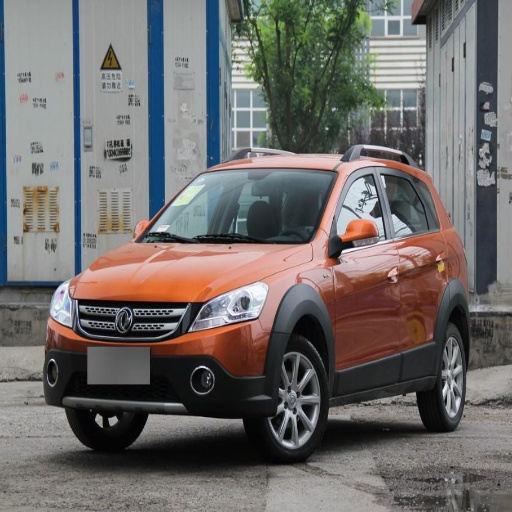front_bumper: (47, 298, 273, 417)
front_glass: (136, 168, 336, 243)
front_left_door: (330, 166, 401, 392)
